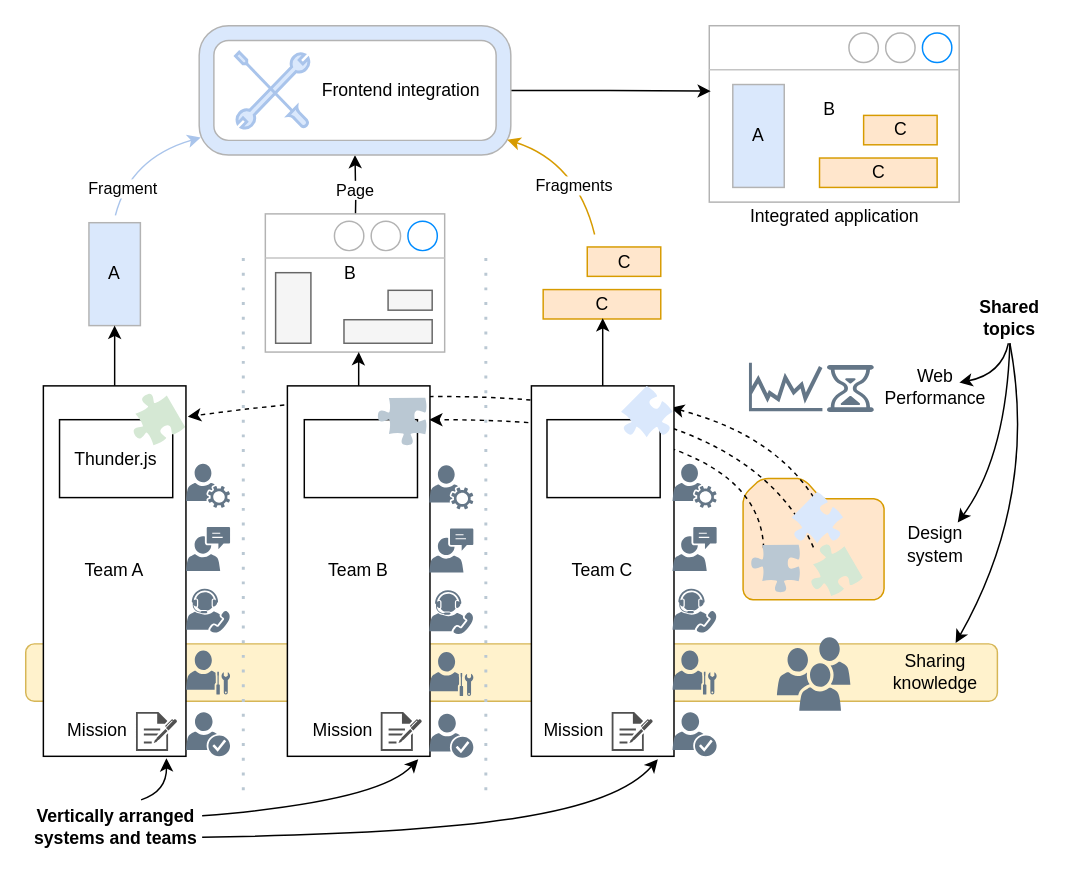
The diagram is 1075 pixels wide and 875 high, and some of its shapes have lost their labels. The centre of each missing label's shape, as x and y in pixels:
"Wonder.js v1.3" goes at pixel 360 458.
"Wonder.js v1.4" goes at pixel 603 458.
